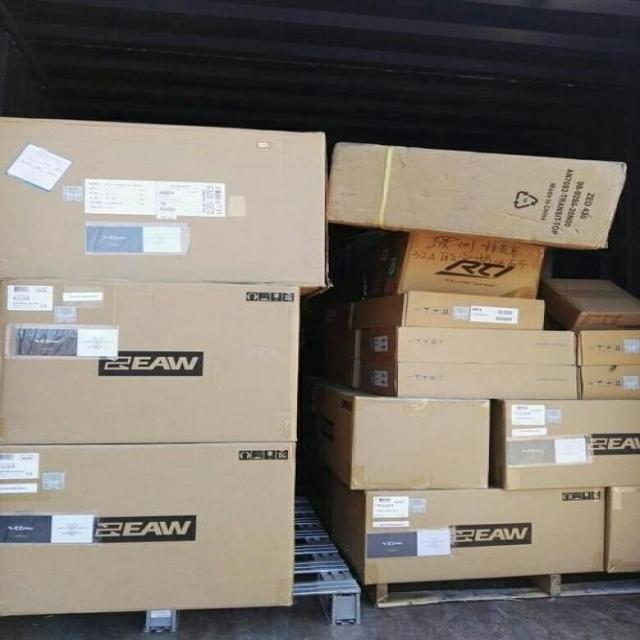box: (0, 117, 330, 302), (0, 441, 298, 617), (0, 280, 301, 445), (328, 142, 628, 252), (330, 476, 607, 585), (302, 378, 490, 490), (340, 230, 545, 299), (488, 400, 640, 490), (360, 360, 580, 399), (361, 327, 577, 366), (353, 291, 545, 330), (538, 279, 640, 331), (605, 486, 640, 573), (576, 330, 640, 366), (577, 365, 640, 401)
